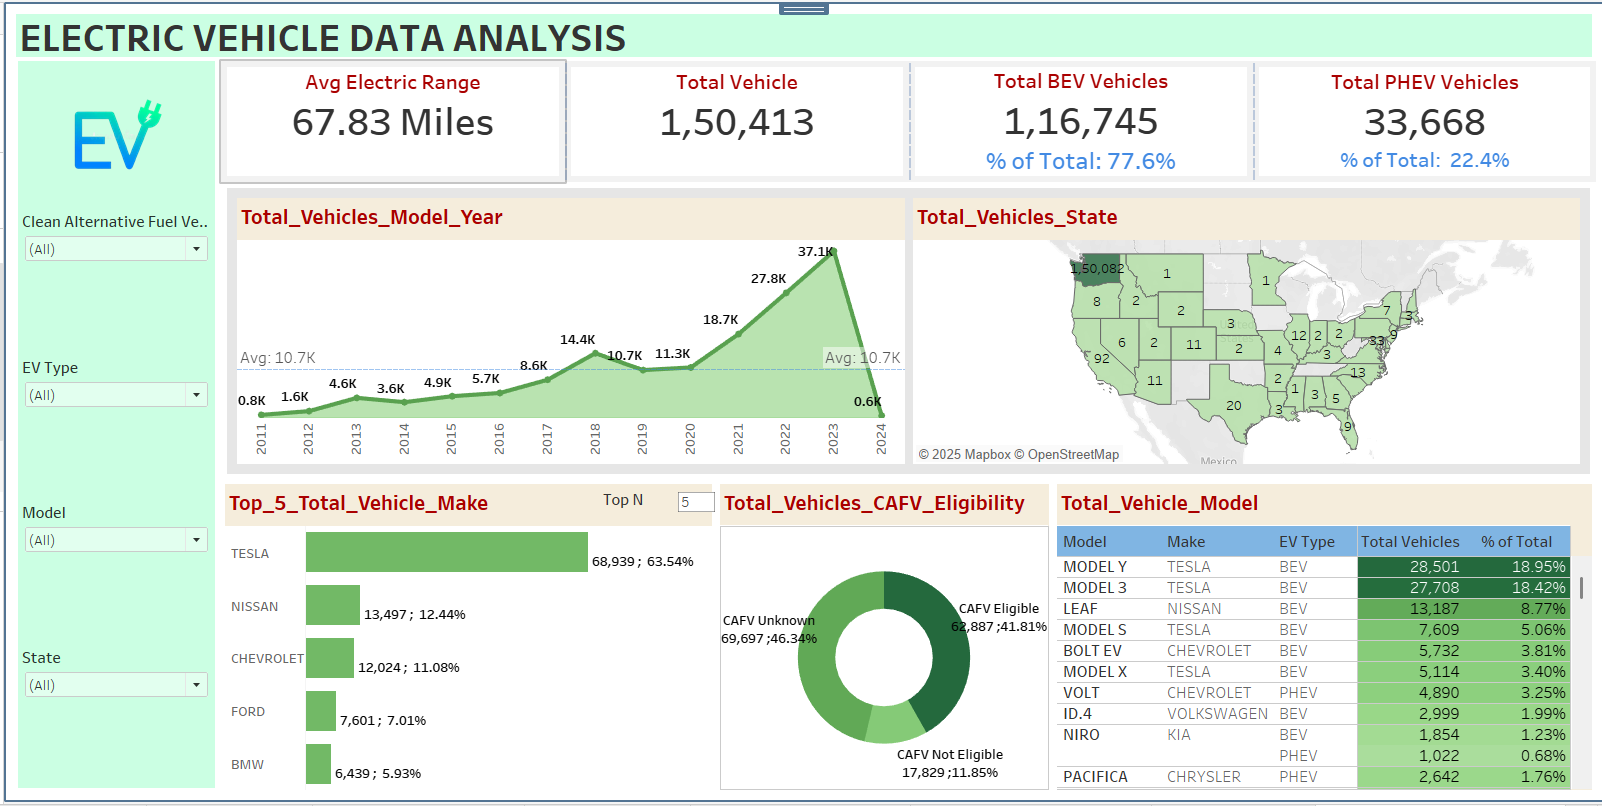

The page's visual inventory and layout, read from the dashboard file:
{"tool":"tableau","page":{"name":"ELECTRIC VEHICLE DATA ANALYSIS","canvas":[1600,800],"ordinal":0},"visuals":[{"type":"title","box":[8,8,1584,51.4]},{"type":"image","param":"Image/EV-removebg-preview.png","box":[14,59,197,146]},{"type":"worksheet","title":"Avg_Electric_Range ","mark":"Automatic","box":[217,59,344,121]},{"type":"worksheet","title":"Total_Vehicles","mark":"Automatic","box":[561,59,344,121]},{"type":"worksheet","title":"Total_BEV_vehicles","mark":"Automatic","box":[905,59,344,121]},{"type":"worksheet","title":"Total_PHEV_vehicles","mark":"Automatic","box":[1249,59,343,121]},{"type":"worksheet","title":"Total_Vehicles_Model_Year","mark":"Area","rows":["Calculation_1476899224712290304","Calculation_1476899224712290304"],"cols":["Model Year"],"box":[229,192,676,274]},{"type":"worksheet","title":"Total_Vehicles_State","mark":"Multipolygon","box":[905,192,675,274]},{"type":"filter","title":"Total_Vehicles_Model_Year","param":"[federated.0zggm900sw5y1i137ihbd07o8jjr].[none:Clean Alternative Fuel Vehicle (C","box":[14,205,197,146]},{"type":"filter","title":"Total_Vehicles_Model_Year","param":"[federated.0zggm900sw5y1i137ihbd07o8jjr].[none:Electric Vehicle Type:nk]","box":[14,351,197,145]},{"type":"worksheet","title":"Top_10_Total_Vehicle_Make","mark":"Automatic","rows":["Make"],"cols":["Calculation_1476899224712290304"],"box":[217,478.4,495,313.6]},{"type":"worksheet","title":"Total_Vehicles_CAFV_Eligibility","mark":"Pie","rows":["Calculation_1906711514798776326","Calculation_1906711514798776326"],"box":[712,478.4,337,313.6]},{"type":"worksheet","title":"Total_Vehicle_Model","mark":"Square","rows":["Model","Make","Electric Vehicle Type"],"box":[1049,478.4,543,313.6]},{"type":"parameter","param":"[Parameters].[Parameter 1]","box":[599,487,115,33]},{"type":"filter","title":"Total_Vehicles_Model_Year","param":"[federated.0zggm900sw5y1i137ihbd07o8jjr].[none:Model:nk]","box":[14,496,197,145]},{"type":"filter","title":"Total_Vehicles_Model_Year","param":"[federated.0zggm900sw5y1i137ihbd07o8jjr].[none:State:nk]","box":[14,641,197,145]}]}

Visuals, with their boxes in screenshot pixels (x1, y1, x2, y2), scaled from the page's 1600x800 canvas onto the 1602x806 screenshot:
title: BBox(8, 8, 1594, 60)
image: BBox(14, 59, 211, 207)
"Avg_Electric_Range " worksheet: BBox(217, 59, 562, 181)
"Total_Vehicles" worksheet: BBox(562, 59, 906, 181)
"Total_BEV_vehicles" worksheet: BBox(906, 59, 1251, 181)
"Total_PHEV_vehicles" worksheet: BBox(1251, 59, 1594, 181)
"Total_Vehicles_Model_Year" worksheet (Area marks): BBox(229, 193, 906, 469)
"Total_Vehicles_State" worksheet (Multipolygon marks): BBox(906, 193, 1582, 469)
"Total_Vehicles_Model_Year" filter: BBox(14, 207, 211, 354)
"Total_Vehicles_Model_Year" filter: BBox(14, 354, 211, 500)
"Top_10_Total_Vehicle_Make" worksheet: BBox(217, 482, 713, 798)
"Total_Vehicles_CAFV_Eligibility" worksheet (Pie marks): BBox(713, 482, 1050, 798)
"Total_Vehicle_Model" worksheet (Square marks): BBox(1050, 482, 1594, 798)
parameter: BBox(600, 491, 715, 524)
"Total_Vehicles_Model_Year" filter: BBox(14, 500, 211, 646)
"Total_Vehicles_Model_Year" filter: BBox(14, 646, 211, 792)
